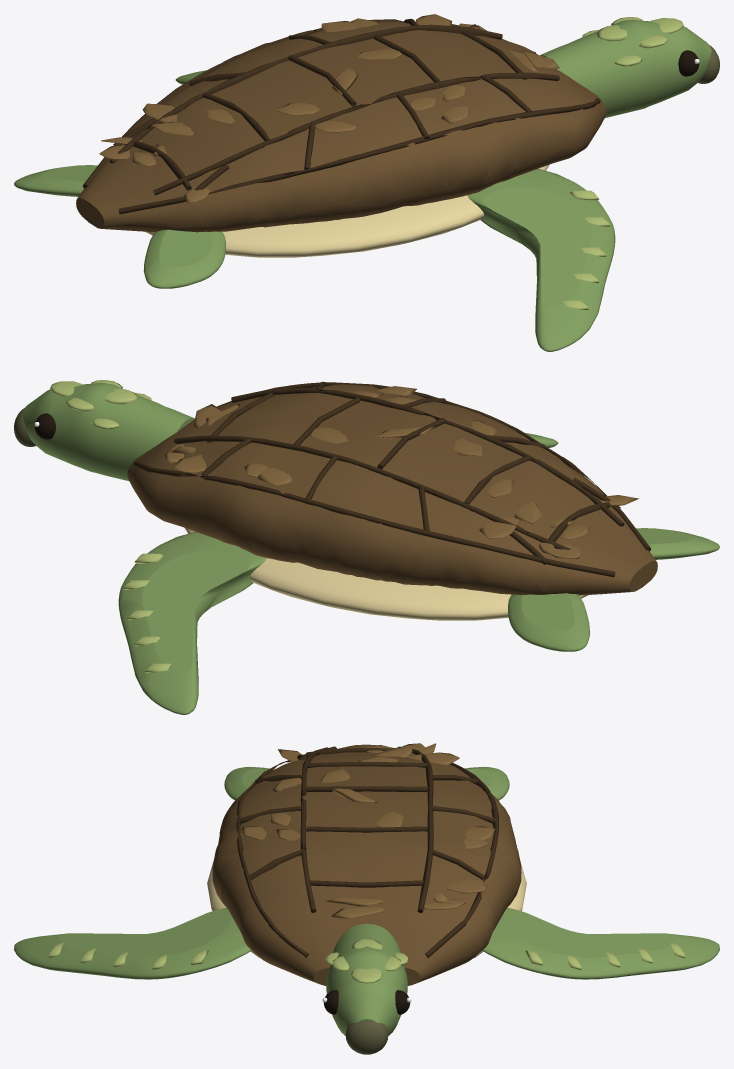
File: turtle.glb
The picture shows the model from 3 angles, top to bottom: view 1: azimuth 30°, elevation 25°; view 2: azimuth 150°, elevation 25°; view 3: azimuth 270°, elevation 25°; orthographic projection. The views are drawn at different scales.
Visible parts, largest first — view 1: Carapace, Flippers, Seams, Head, Plastron, Flecks, HeadScales, FlipperScales; view 2: Carapace, Flippers, Seams, Head, Plastron, Flecks, HeadScales, FlipperScales; view 3: Carapace, Flippers, Seams, Flecks, Head, FlipperScales, HeadScales, Beak, Plastron, Eyes.
Boxes of the visible parts, left/top/right/bottom form: Carapace: left=76, top=21, right=606, bottom=232; Flippers: left=14, top=70, right=615, bottom=351; Seams: left=82, top=18, right=600, bottom=214; Head: left=540, top=19, right=711, bottom=117; Plastron: left=145, top=164, right=549, bottom=257; Flecks: left=99, top=14, right=559, bottom=204; HeadScales: left=582, top=17, right=683, bottom=66; FlipperScales: left=563, top=190, right=610, bottom=309; Carapace: left=127, top=384, right=657, bottom=595; Flippers: left=118, top=432, right=719, bottom=714; Seams: left=133, top=381, right=650, bottom=577; Head: left=22, top=382, right=194, bottom=480; Plastron: left=184, top=527, right=588, bottom=620; Flecks: left=164, top=386, right=638, bottom=558; HeadScales: left=50, top=380, right=151, bottom=429; FlipperScales: left=123, top=553, right=170, bottom=673; Carapace: left=212, top=744, right=521, bottom=985; Flippers: left=14, top=766, right=719, bottom=979; Seams: left=236, top=746, right=499, bottom=957; Flecks: left=240, top=743, right=495, bottom=918; Head: left=326, top=923, right=407, bottom=1035; FlipperScales: left=48, top=943, right=685, bottom=969; HeadScales: left=325, top=939, right=408, bottom=983; Beak: left=345, top=1020, right=388, bottom=1054; Plastron: left=207, top=861, right=526, bottom=958; Eyes: left=323, top=990, right=410, bottom=1014.
Size of the model in its own units: 0.1039 by 0.0239 by 0.1059.
